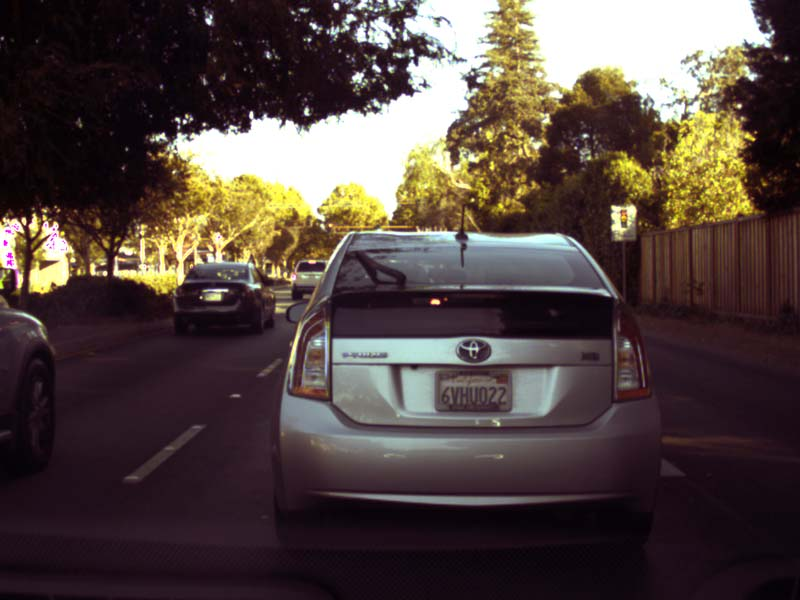Red: (327, 222, 332, 232)
